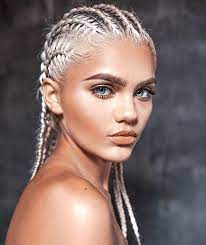person: (39, 4, 158, 164)
